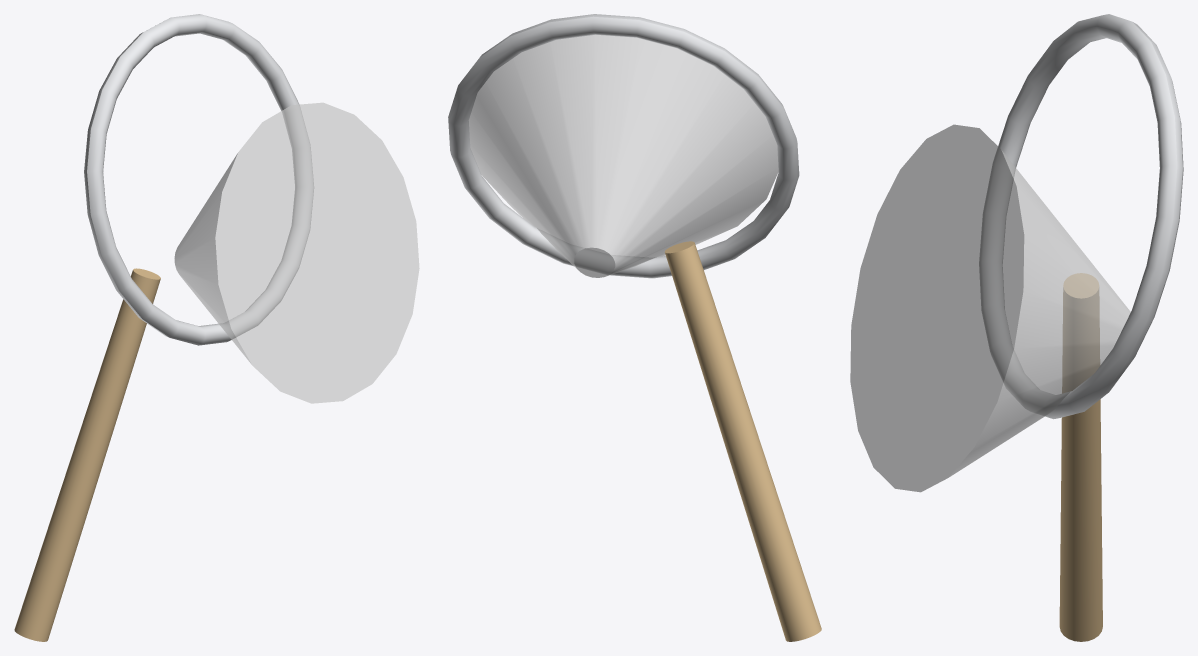
The model's file is vot_luoi.glb.
3 views of the same model, side by side, from view 1: azimuth 30°, elevation 25°; view 2: azimuth 150°, elevation 25°; view 3: azimuth 270°, elevation 25° (orthographic). The views are drawn at different scales.
Parts seen in each view (by area): view 1: Cyl2, Tor1, Cyl1; view 2: Cyl2, Tor1, Cyl1; view 3: Cyl2, Tor1, Cyl1.
Part boxes in pixels (<box>): Cyl2: <box>174,102,419,403</box>; Tor1: <box>84,14,313,345</box>; Cyl1: <box>14,268,160,641</box>; Cyl2: <box>469,35,778,277</box>; Tor1: <box>448,14,799,278</box>; Cyl1: <box>664,241,821,641</box>; Cyl2: <box>850,124,1130,492</box>; Tor1: <box>979,14,1183,419</box>; Cyl1: <box>1059,273,1102,641</box>.
Bounding box in the file's own units: 0.4318 × 0.6339 × 0.2765.
